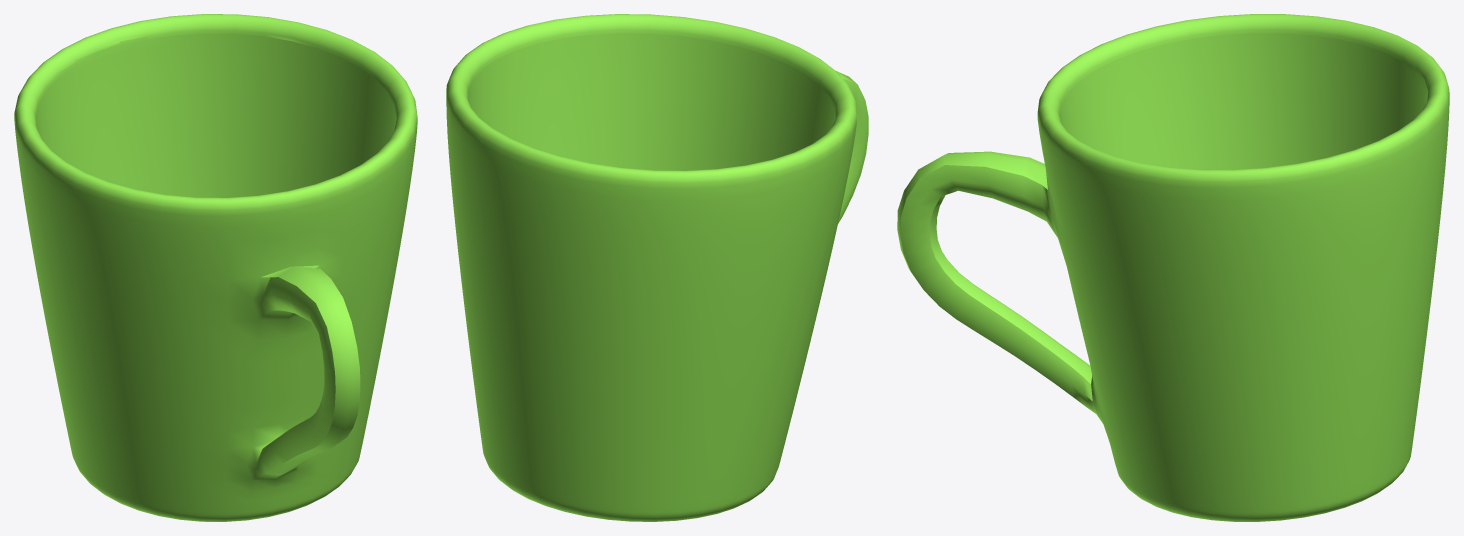
The picture shows the model from 3 angles, left to right: view 1: azimuth 30°, elevation 25°; view 2: azimuth 150°, elevation 25°; view 3: azimuth 270°, elevation 25°; orthographic projection. The views are drawn at different scales.
Parts seen in each view (by area): view 1: split_parent_0; view 2: split_parent_0; view 3: split_parent_0.
Part boxes in pixels (<box>): split_parent_0: <box>14,14,417,521</box>; split_parent_0: <box>446,14,868,521</box>; split_parent_0: <box>897,14,1449,521</box>.
Size of the model in its own units: 0.7462 by 0.7744 by 1.
